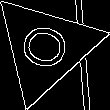O_E: (14, 19, 77, 76)
